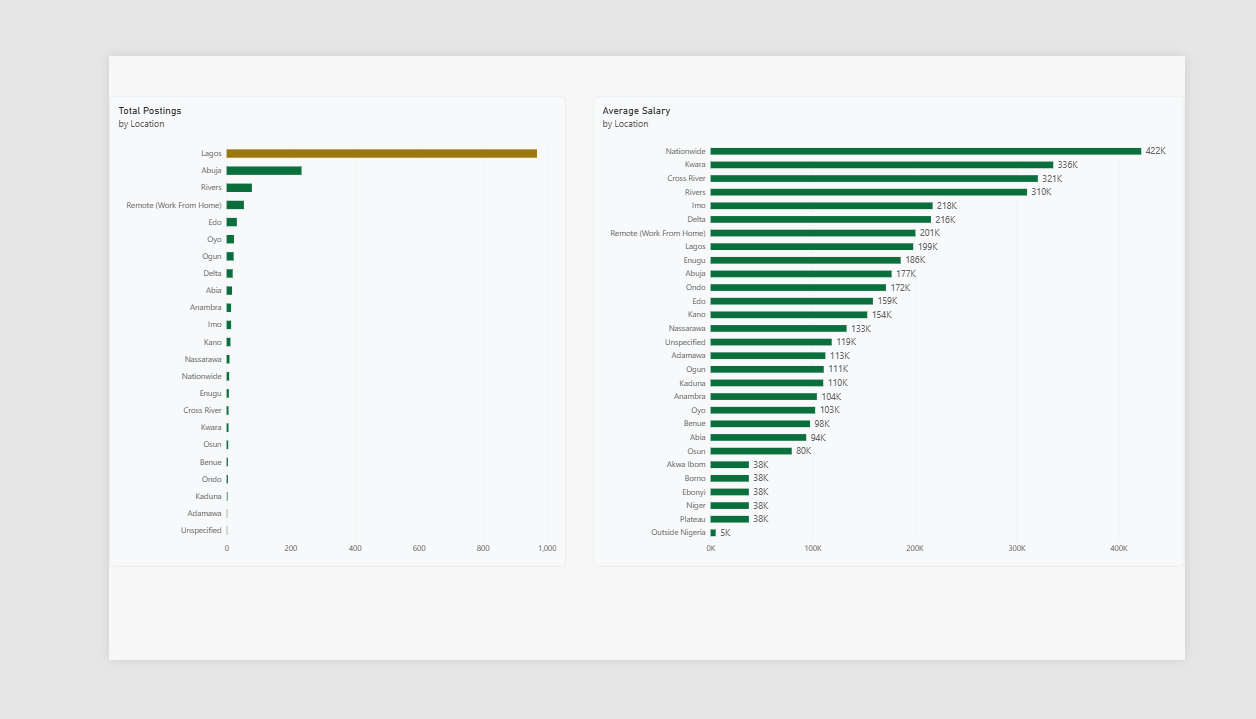

What the dashboard file says about the page in this screenshot:
{"tool":"powerbi","page":{"name":"Location","canvas":[1920,1080],"ordinal":3},"visuals":[{"type":"barChart","fields":{"Category":["public job_postings.Location"],"Y":["CountNonNull(public job_postings.job_url)"]},"box":[0,72,816,840],"z":0},{"type":"barChart","fields":{"Category":["public job_postings.Location"],"Y":["Avg(public job_postings.avg_salary)"]},"box":[864,72,1056,840],"z":1000}]}

Visuals, with their boxes in screenshot pixels (x1, y1, x2, y2), scaled from the page's 1920x1080 canvas onto the 1256x719 screenshot:
barChart - public job_postings.Location x CountNonNull(public job_postings.job_url): box(0, 48, 534, 607)
barChart - public job_postings.Location x Avg(public job_postings.avg_salary): box(565, 48, 1255, 607)
